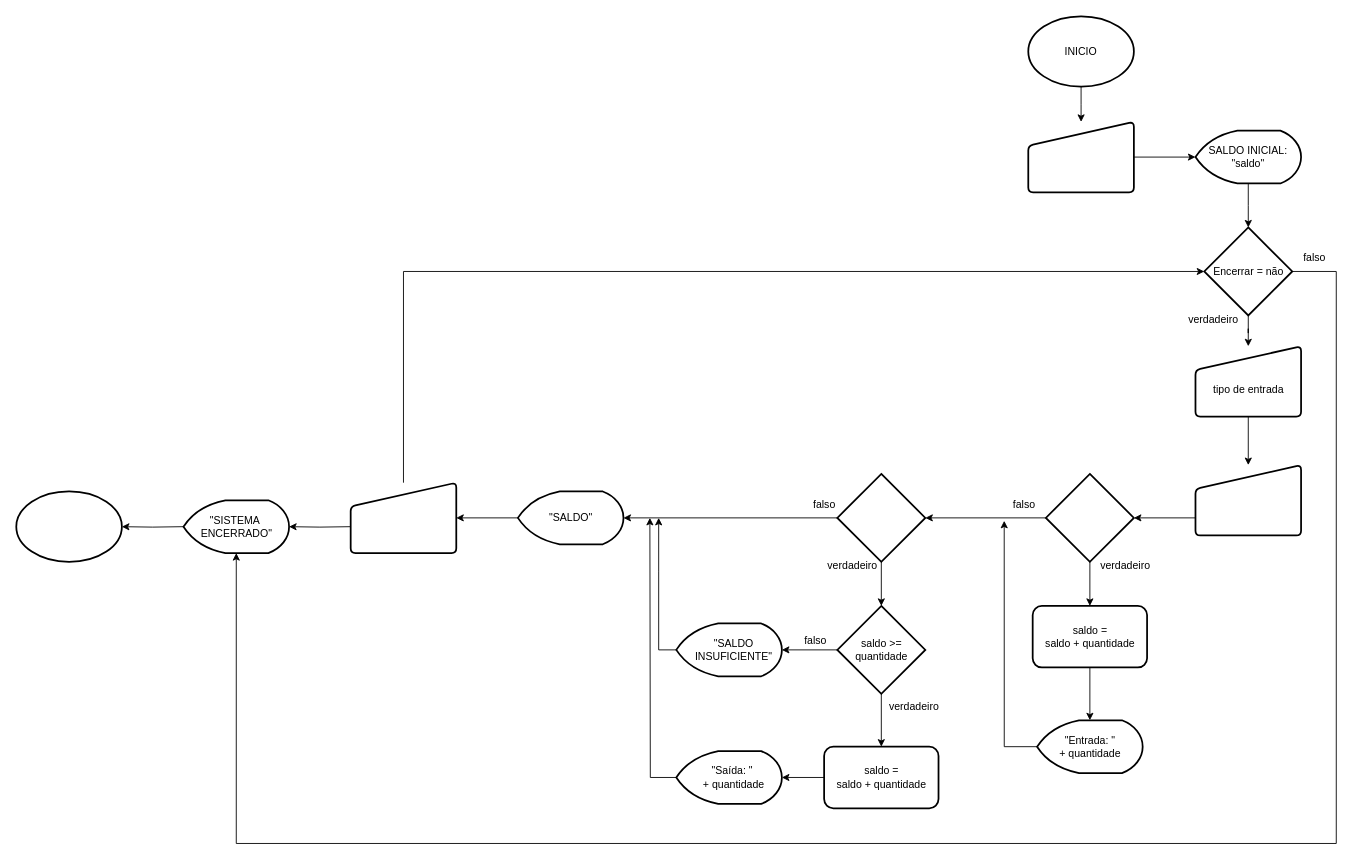
This 1359x866 diagram has some shape labels left out. The shapes that lost their labels are listed below. From the top down, each one's centre as x and y in pixels, then its label:
At [1080,157]: "INSERIR SALDO".
At [403,517]: "encerrar? (sim/não)".
At [881,517]: "tipo de entrada 2".
At [1089,517]: "tipo de entrada 1".
At [1248,500]: "quantidade".
At [68,526]: "FIM".
